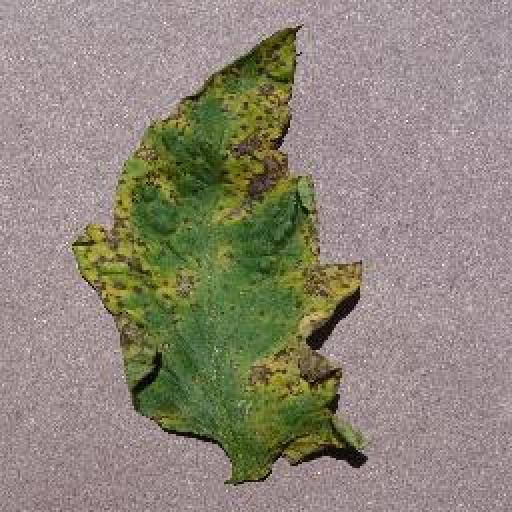disease_tomato: (72, 27, 370, 481)
